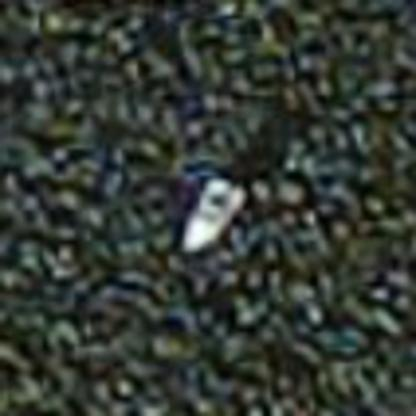ship: (174, 170, 252, 258)
